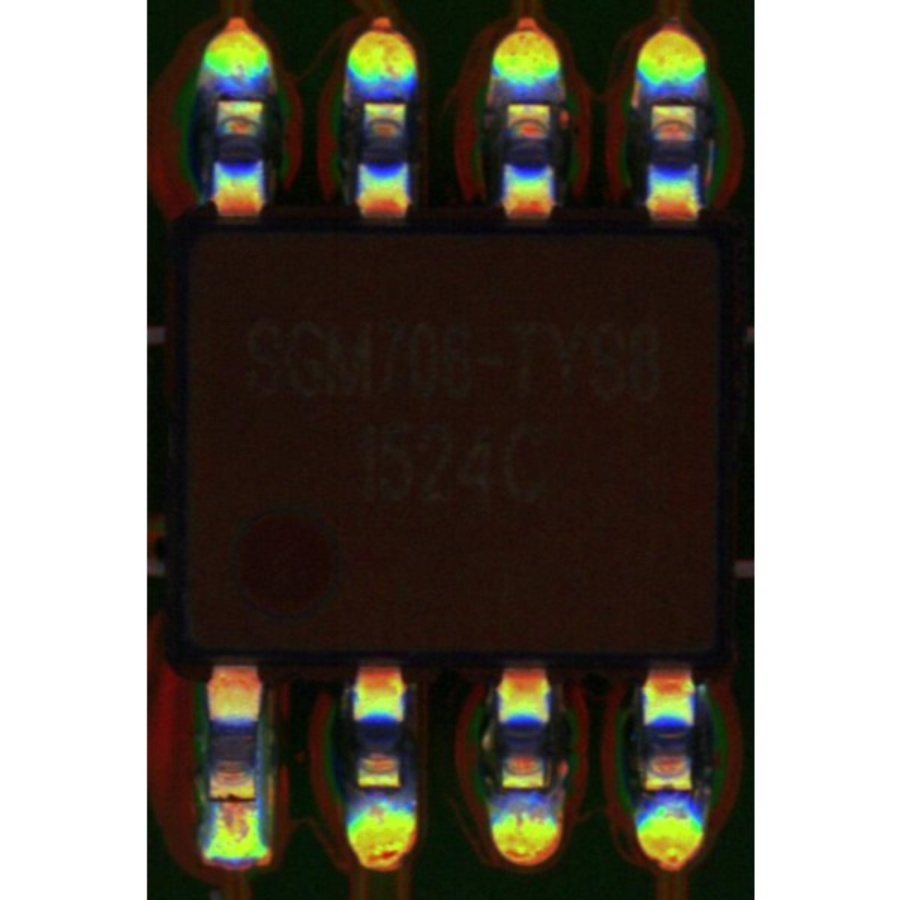Bad_podu: (214, 786, 253, 824)
